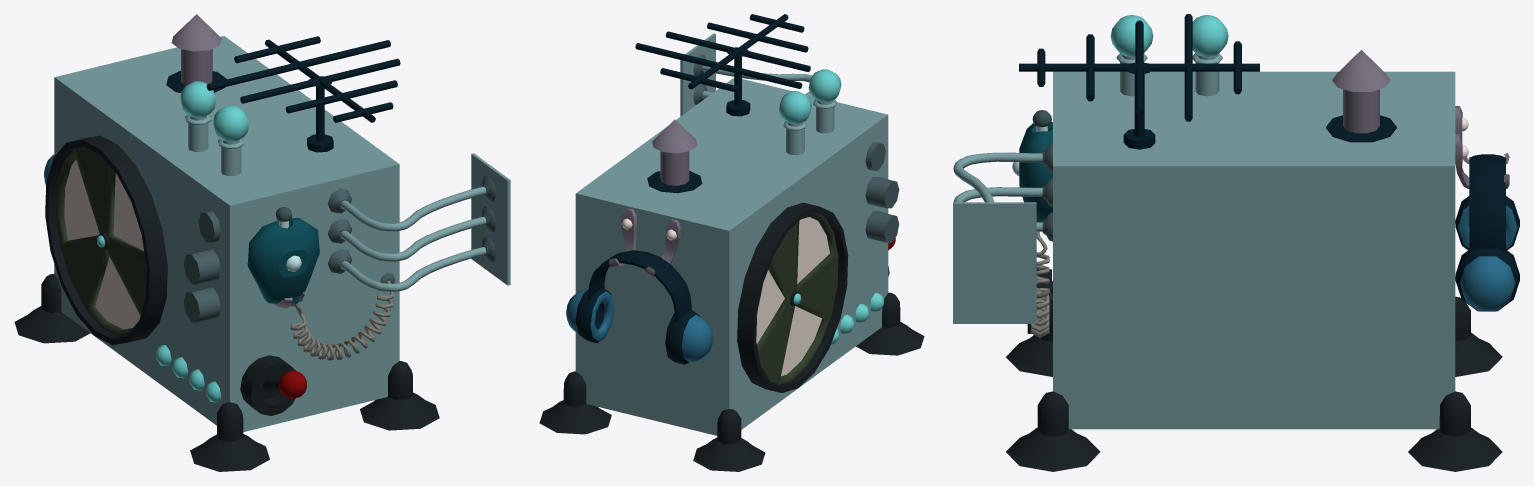
Rendered from 114_radio_broadcaster.glb.
3 views of the same model, side by side, from view 1: azimuth 30°, elevation 25°; view 2: azimuth 150°, elevation 25°; view 3: azimuth 270°, elevation 25° (orthographic). The views are drawn at different scales.
Visible parts, largest first — view 1: radio, disk, feet, mic and cable, cables, antenna, receptors, lever, buttons, chimney, lights, antenna support (+1 smaller); view 2: radio, disk, feet, headphones, antenna, receptors, chimney, headphones band, buttons, headphones holder, cables, lights (+2 smaller); view 3: radio, feet, headphones, chimney, receptors, headphones band, mic and cable, antenna, cables, antenna support, antenna base, headphones holder.
Part boxes in pixels (bbox=[...]): radio: bbox=[54, 36, 510, 431]; disk: bbox=[45, 135, 167, 345]; feet: bbox=[14, 273, 439, 471]; mic and cable: bbox=[247, 207, 394, 361]; cables: bbox=[327, 176, 496, 291]; antenna: bbox=[206, 36, 400, 122]; receptors: bbox=[180, 81, 248, 176]; lever: bbox=[240, 355, 306, 415]; buttons: bbox=[183, 211, 220, 322]; chimney: bbox=[166, 14, 226, 92]; lights: bbox=[155, 345, 221, 402]; antenna support: bbox=[264, 39, 375, 122]; radio: bbox=[575, 33, 888, 435]; disk: bbox=[737, 202, 848, 392]; feet: bbox=[539, 292, 924, 471]; headphones: bbox=[566, 288, 713, 364]; antenna: bbox=[635, 14, 810, 92]; receptors: bbox=[779, 69, 841, 155]; chimney: bbox=[647, 119, 702, 193]; headphones band: bbox=[588, 250, 691, 321]; buttons: bbox=[865, 142, 899, 242]; headphones holder: bbox=[608, 208, 680, 277]; cables: bbox=[693, 54, 811, 104]; lights: bbox=[831, 293, 883, 344]; radio: bbox=[953, 71, 1455, 429]; feet: bbox=[1006, 296, 1502, 471]; headphones: bbox=[1455, 196, 1519, 311]; chimney: bbox=[1326, 50, 1396, 142]; receptors: bbox=[1110, 15, 1228, 96]; headphones band: bbox=[1469, 154, 1505, 252]; mic and cable: bbox=[1019, 110, 1052, 338]; antenna: bbox=[1037, 14, 1241, 121]; cables: bbox=[953, 143, 1052, 241]; antenna support: bbox=[1019, 63, 1259, 71]; antenna base: bbox=[1123, 62, 1155, 149]; headphones holder: bbox=[1455, 106, 1509, 188].
Bounding box in the file's own units: 1.35 × 1.5 × 2.12.
